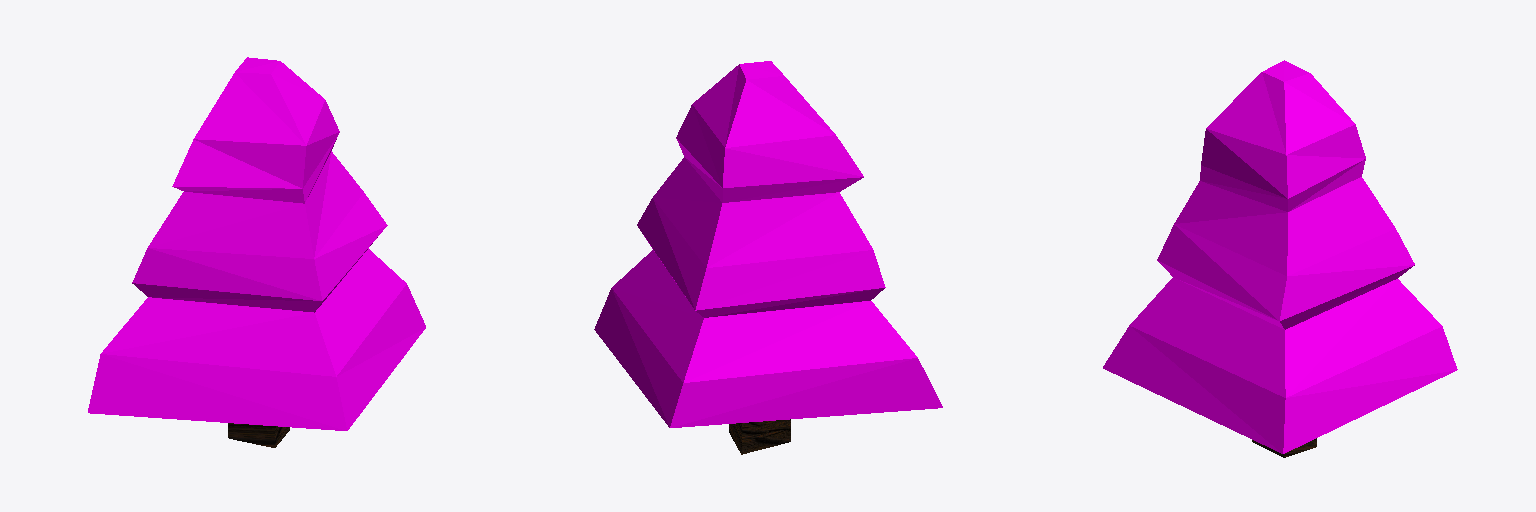
The picture shows the model from 3 angles: view 1: azimuth 30°, elevation 25°; view 2: azimuth 150°, elevation 25°; view 3: azimuth 270°, elevation 25°; orthographic projection.
Visible parts, largest first — view 1: Cylinder_Cylinder.001; view 2: Cylinder_Cylinder.001; view 3: Cylinder_Cylinder.001.
Part boxes in pixels (bbox=[...]): Cylinder_Cylinder.001: bbox=[88, 57, 425, 447]; Cylinder_Cylinder.001: bbox=[594, 61, 942, 454]; Cylinder_Cylinder.001: bbox=[1103, 60, 1457, 457].
Size of the model in its own units: 8.81 by 9.15 by 7.88.
Materials: 2 (2 with a texture image).